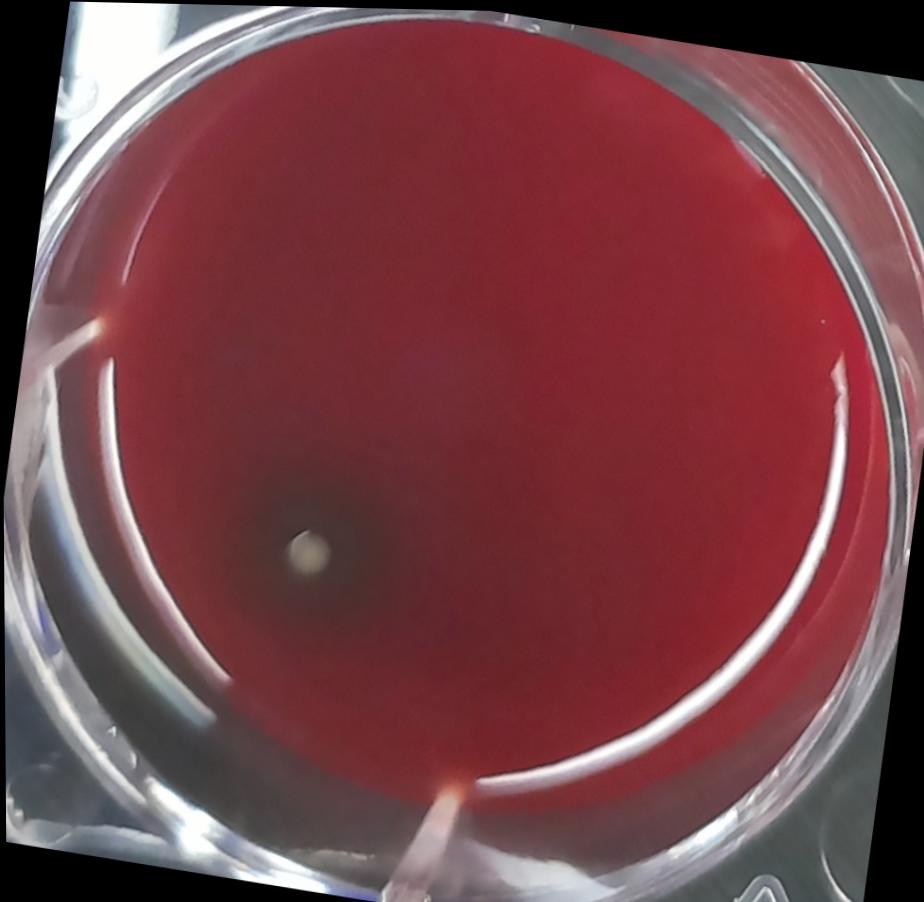vfluvialis: (198, 439, 429, 667)
